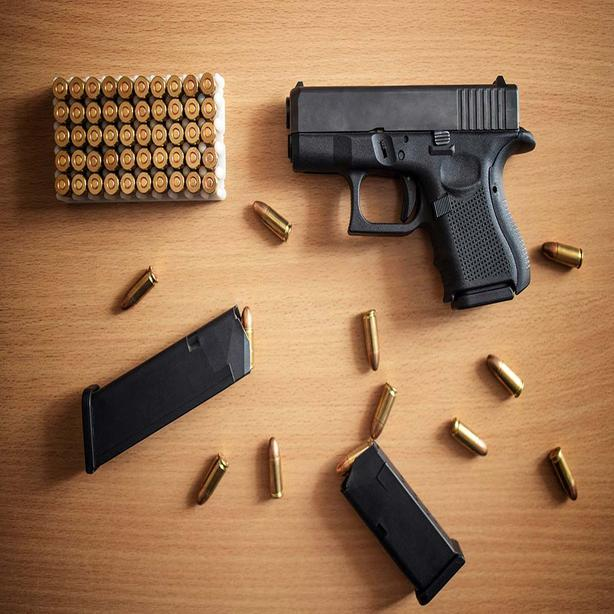Firearm: (274, 70, 586, 325), (41, 296, 259, 478), (315, 428, 494, 607)
